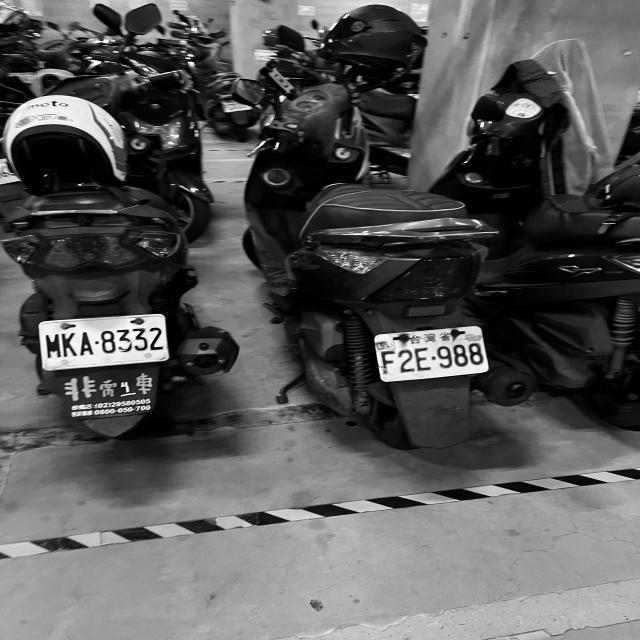-: (94, 338, 100, 346), (430, 355, 436, 361)
2: (398, 347, 418, 375), (147, 324, 164, 352)
3: (115, 327, 132, 353), (132, 326, 149, 351)
8: (100, 328, 117, 354), (453, 342, 468, 367), (468, 343, 484, 366)
9: (436, 344, 452, 368)
A: (79, 330, 94, 357)
E: (412, 346, 434, 374)
F: (379, 350, 396, 375)
K: (61, 331, 78, 357)
M: (43, 334, 62, 358)
plate: (37, 320, 171, 361), (376, 336, 494, 378)
